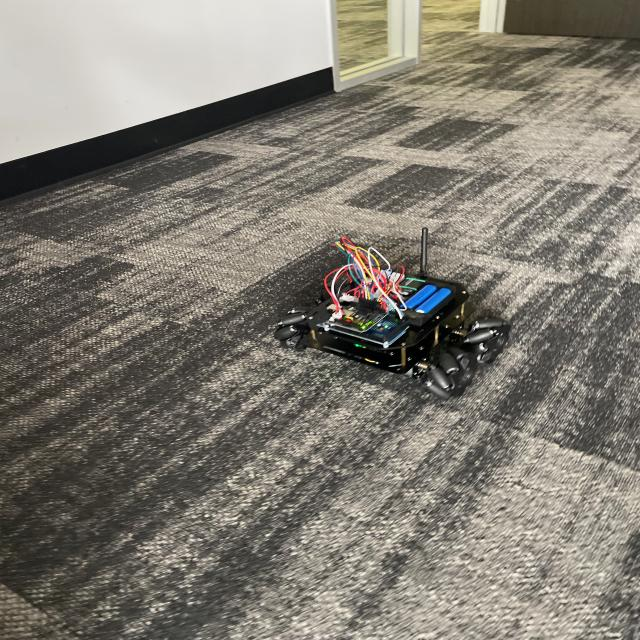ArduinoCar: (267, 225, 510, 407)
